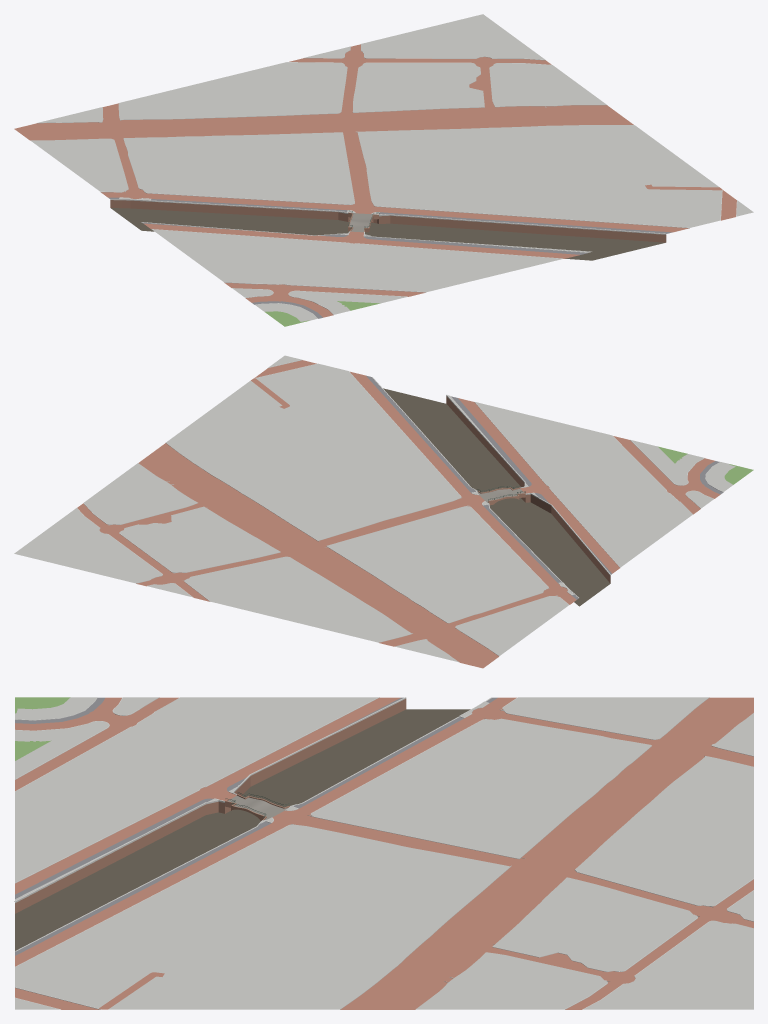
Rendered from ground_8_10.glb.
The picture shows the model from 3 angles, top to bottom: view 1: azimuth 30°, elevation 25°; view 2: azimuth 150°, elevation 25°; view 3: azimuth 270°, elevation 25°; orthographic projection. The views are drawn at different scales.
Parts seen in each view (by area): view 1: ground_8_10; view 2: ground_8_10; view 3: ground_8_10.
Boxes of the visible parts, x1,y1,x2,y2 form: ground_8_10: (14,14,753,326); ground_8_10: (14,355,753,668); ground_8_10: (14,697,753,1009).
Size of the model in its own units: 200 by 5.02 by 200.
